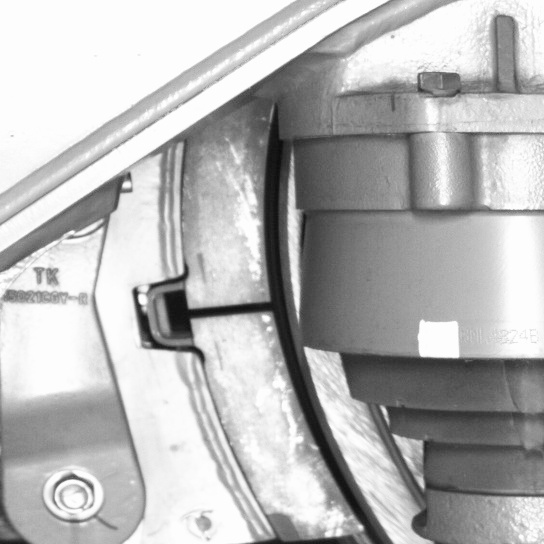KnifeSwitch: (187, 135, 395, 540)
